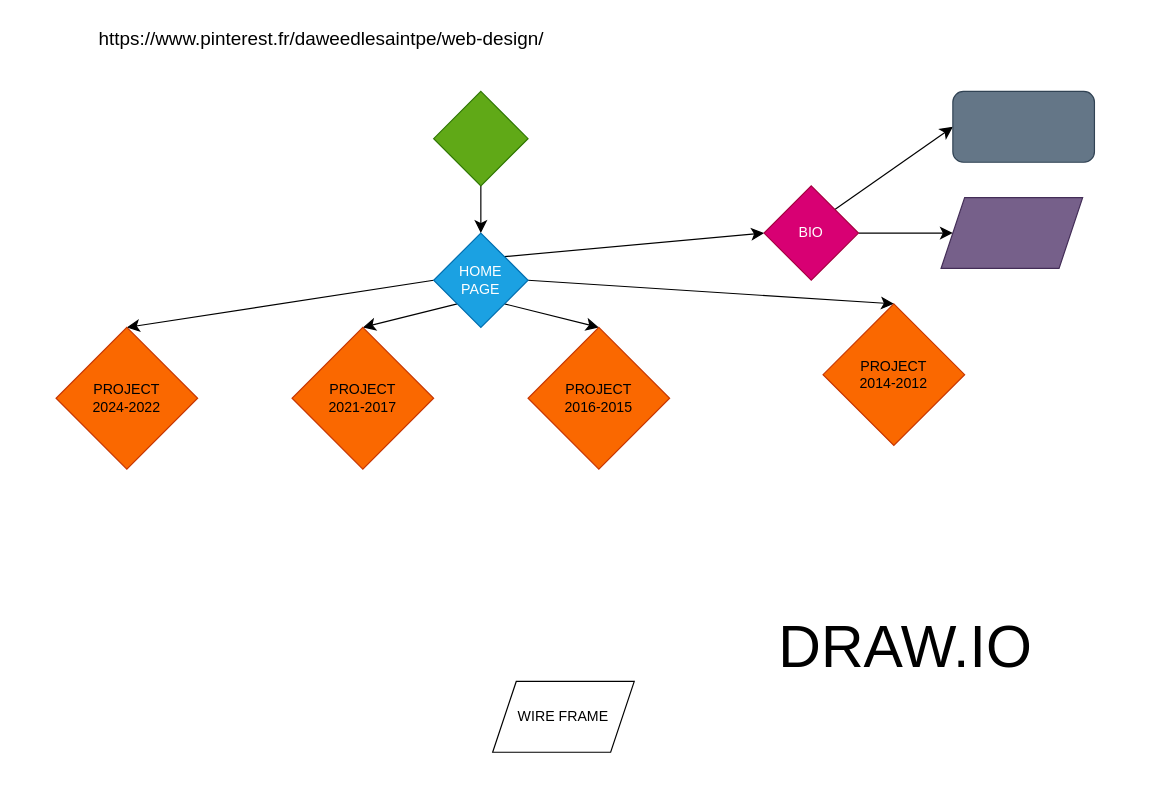
Image size: 1173x795. Some labels were removed from this diagram. The box of each missing label's shape, as (x1, y1, x2, y2) in pixels:
CV PDF: (952, 90, 1094, 162)
INSTAGRAM: (940, 196, 1083, 268)
LOGO PAGE: (432, 90, 528, 186)
